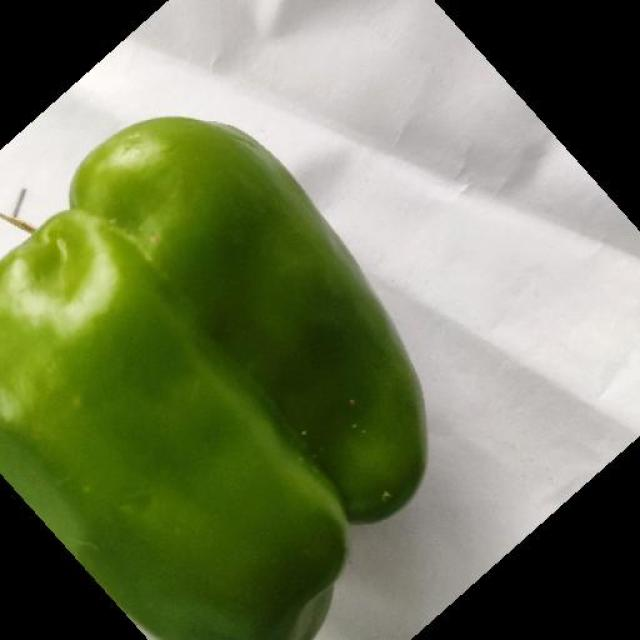Fresh_Capsicum: (0, 75, 425, 639)
